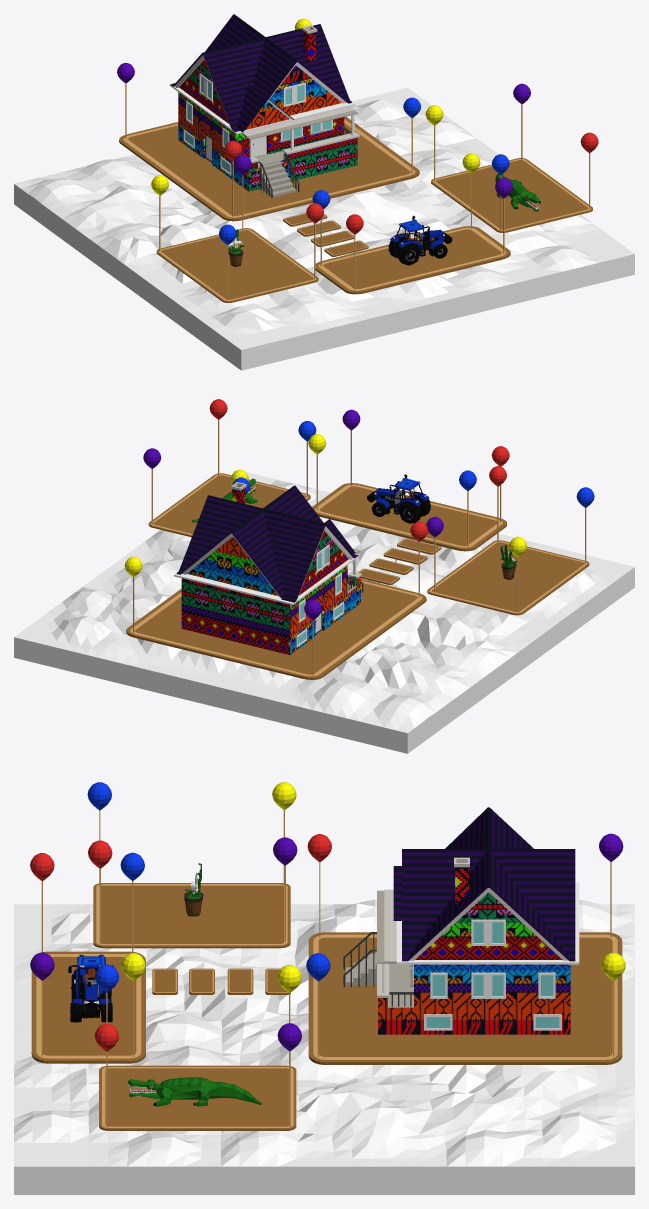
3 renders of one model, top to bottom at view 1: azimuth 30°, elevation 25°; view 2: azimuth 150°, elevation 25°; view 3: azimuth 270°, elevation 25°, orthographic. The views are drawn at different scales.
Visible parts, largest first — view 1: Cube.013, Cube.966, VEHICLES_TRACTOR, ANIMAL_COCODRILO; view 2: Cube.013, Cube.966, VEHICLES_TRACTOR; view 3: Cube.013, Cube.966, ANIMAL_COCODRILO, VEHICLES_TRACTOR, OBJRANDOM_MONJA BLANCA.
Part boxes in pixels (x1,y1,x2,y2): Cube.013: (14, 18, 634, 370); Cube.966: (169, 14, 360, 198); VEHICLES_TRACTOR: (388, 215, 452, 265); ANIMAL_COCODRILO: (495, 173, 540, 211); Cube.013: (14, 399, 634, 753); Cube.966: (174, 482, 363, 655); VEHICLES_TRACTOR: (367, 474, 430, 523); Cube.013: (14, 782, 634, 1194); Cube.966: (343, 807, 579, 1034); ANIMAL_COCODRILO: (128, 1077, 261, 1106); VEHICLES_TRACTOR: (68, 954, 113, 1022); OBJRANDOM_MONJA BLANCA: (184, 863, 203, 916).
Size of the model in its own units: 4000 by 1691 by 4000.
Materials: 38 (5 with a texture image).
